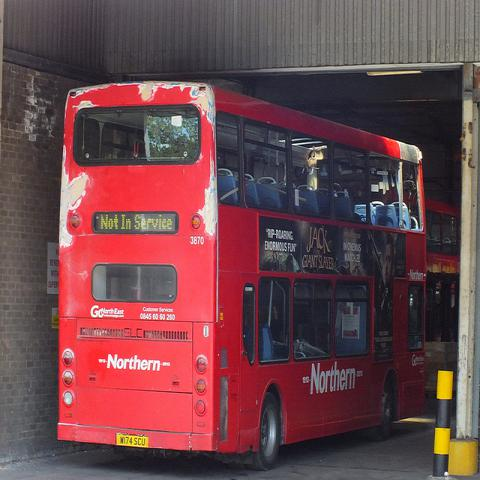bus: (57, 81, 427, 472)
